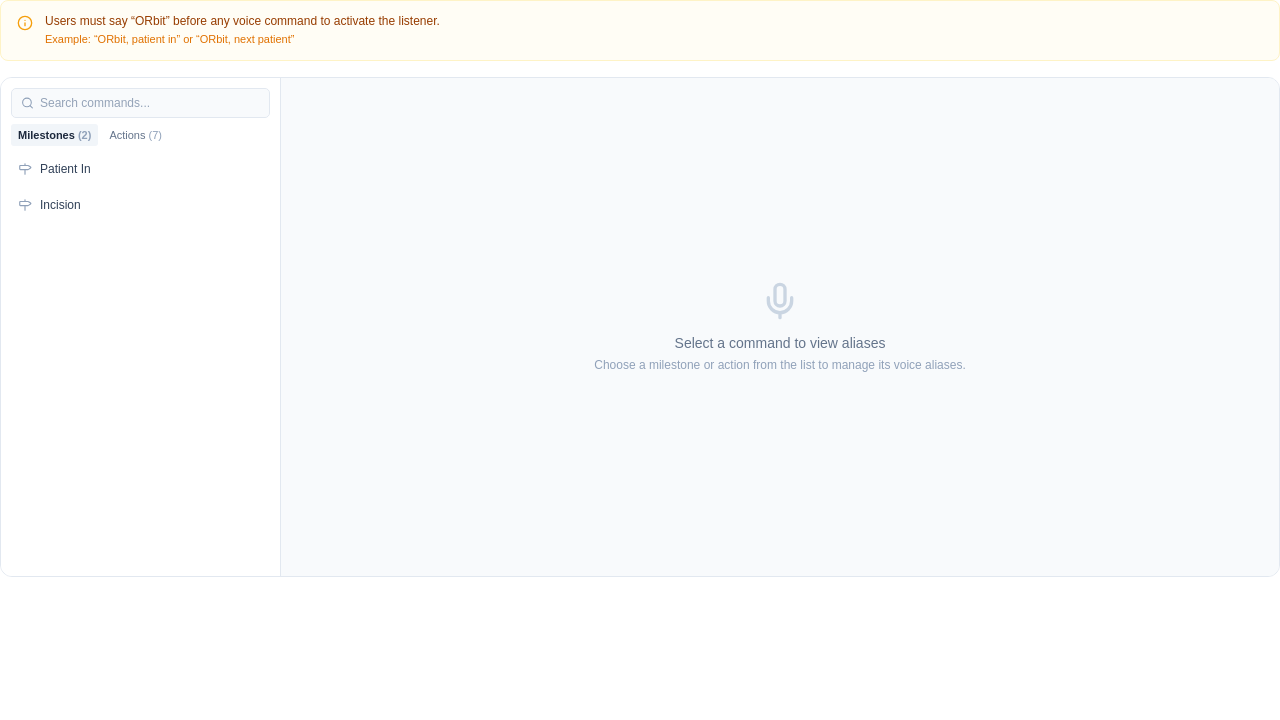
Test: Voice Commands Workflow › Workflow: Search → select → clear search › search filters, select works, clearing restores list
The image size is (1280, 720).
# Search for "inci"
Type "inci" into the field with placeholder "Search commands...".
click(140, 102); type("inci")  # box [11, 88, 270, 118]
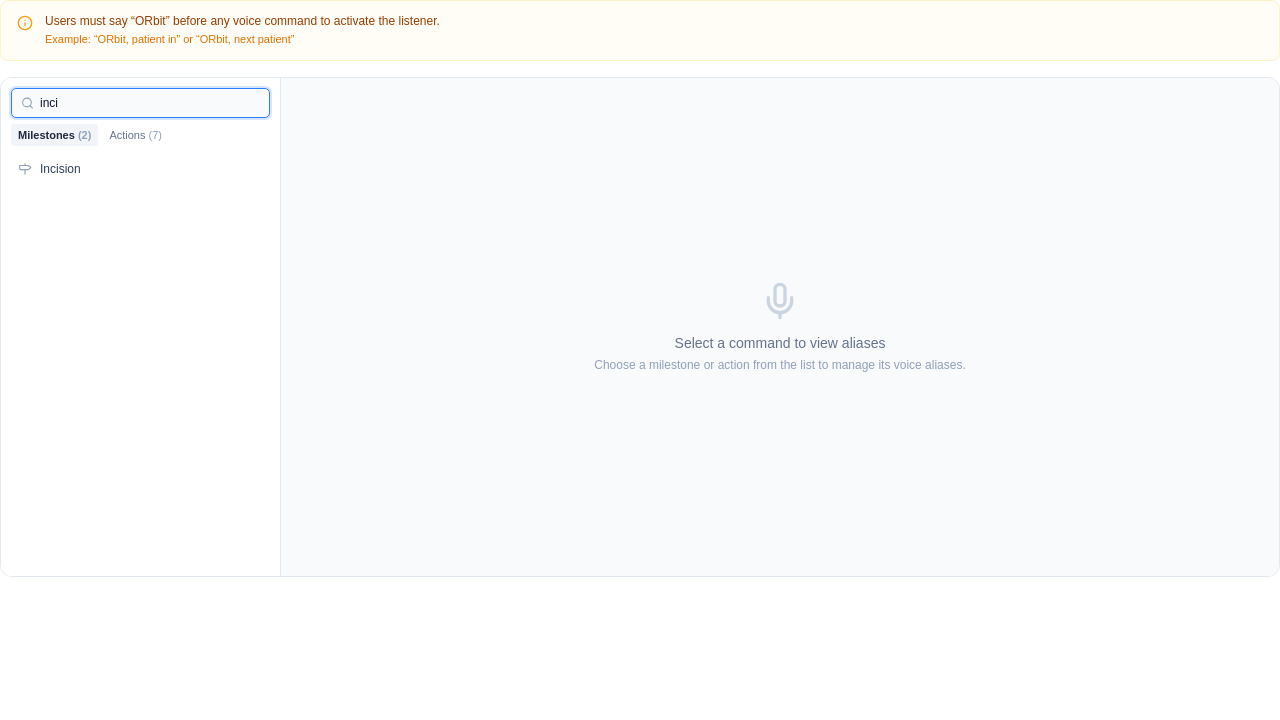
# Select the filtered result
Click the text "Incision".
click(60, 169)  # box [40, 161, 81, 177]
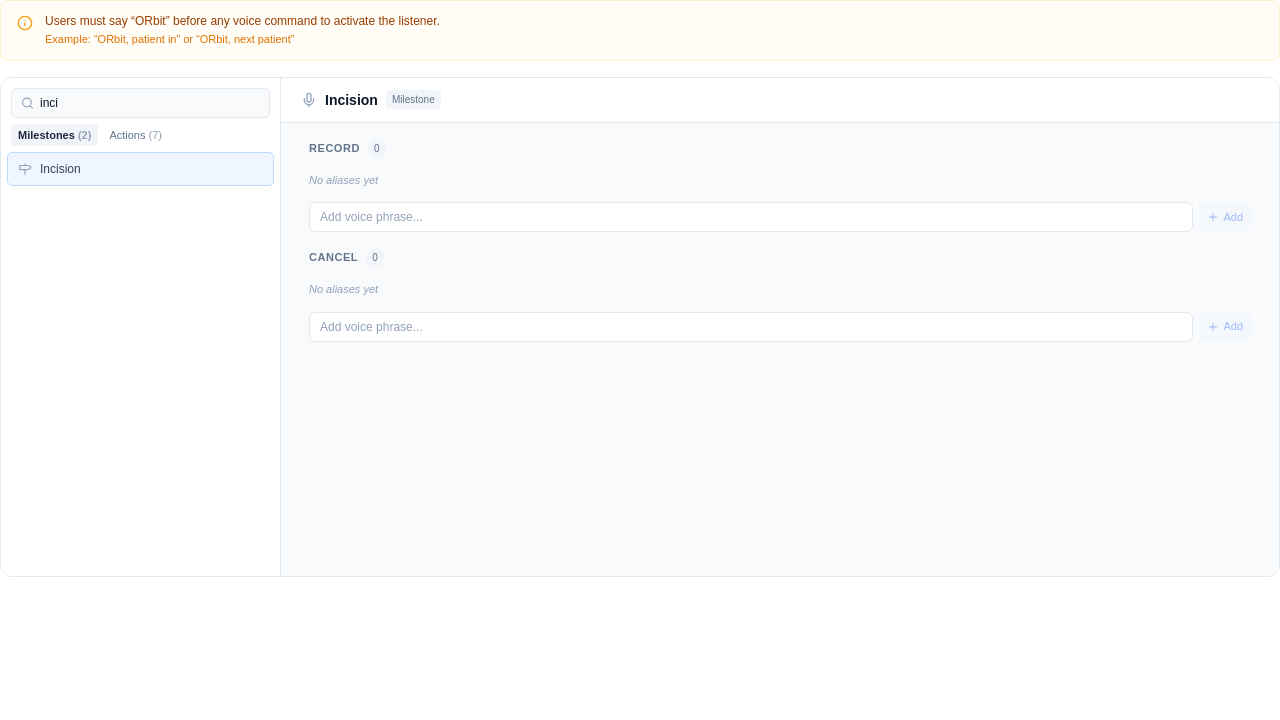
Expected: the text "Milestone" is shown, [386, 90, 441, 109]
# Clear search
Clear the field with placeholder "Search commands..." at x=140, y=102, box [11, 88, 270, 118]
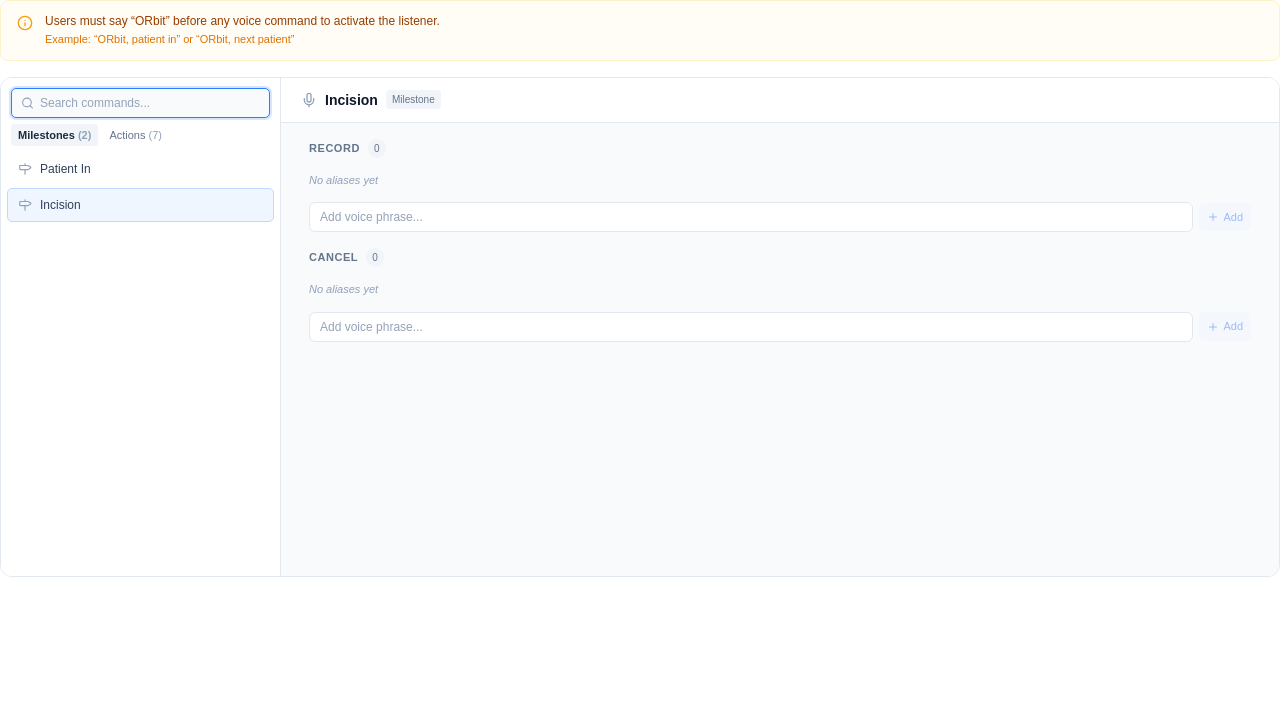
Now the text "Patient In" is shown, box [40, 161, 91, 177]
